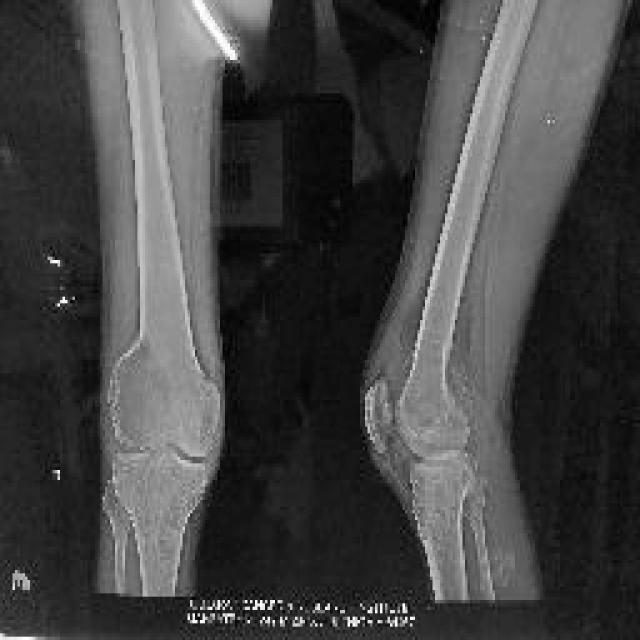bone-cancer: (106, 343, 174, 451), (425, 365, 474, 446)
